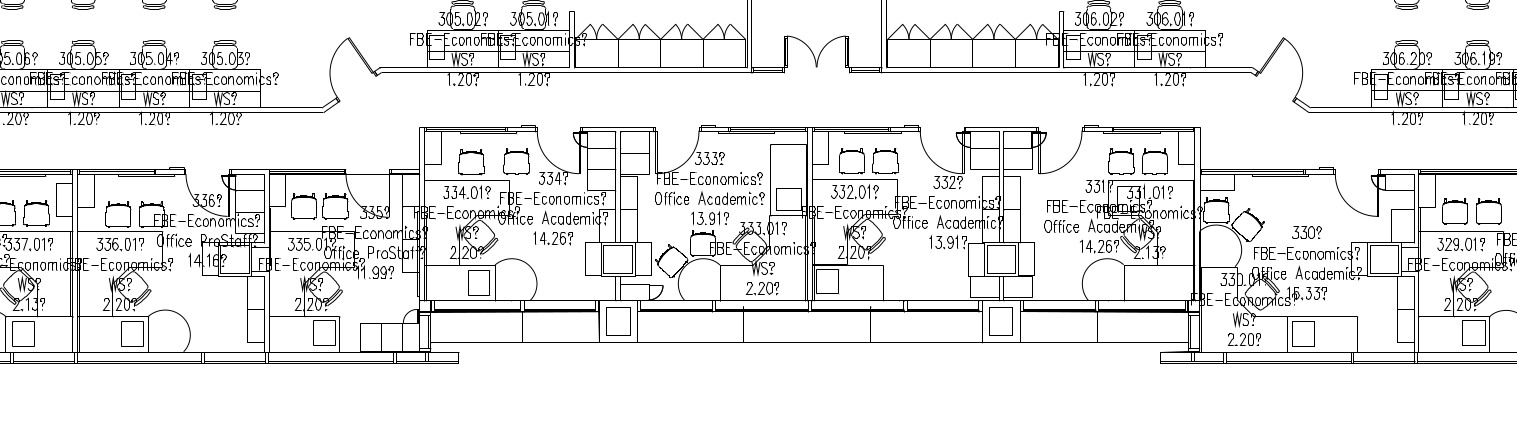door: (1236, 30, 1314, 110), (320, 33, 384, 108), (777, 20, 854, 82), (340, 157, 395, 223), (177, 160, 232, 226), (530, 120, 585, 186), (652, 120, 707, 186), (1034, 125, 1095, 179), (908, 124, 969, 178), (1326, 166, 1387, 220)
